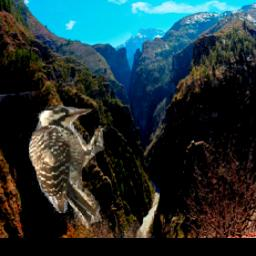Woodpecker: (28, 104, 106, 230)
